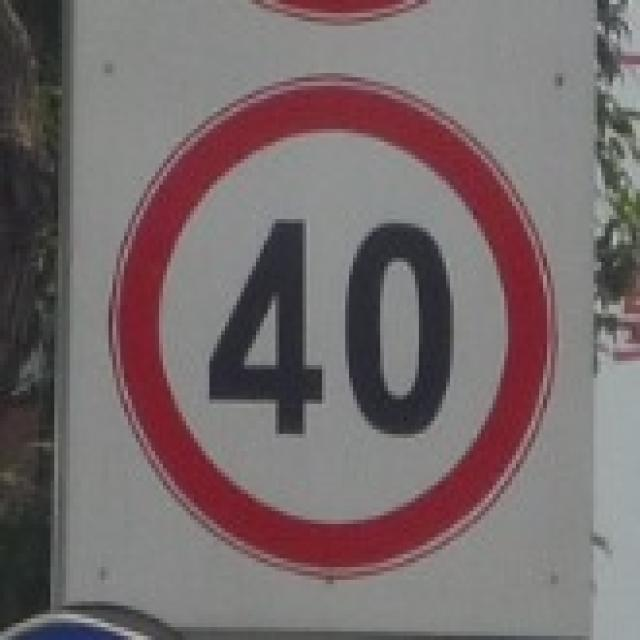Speed Limit -40-: (203, 217, 458, 440)
